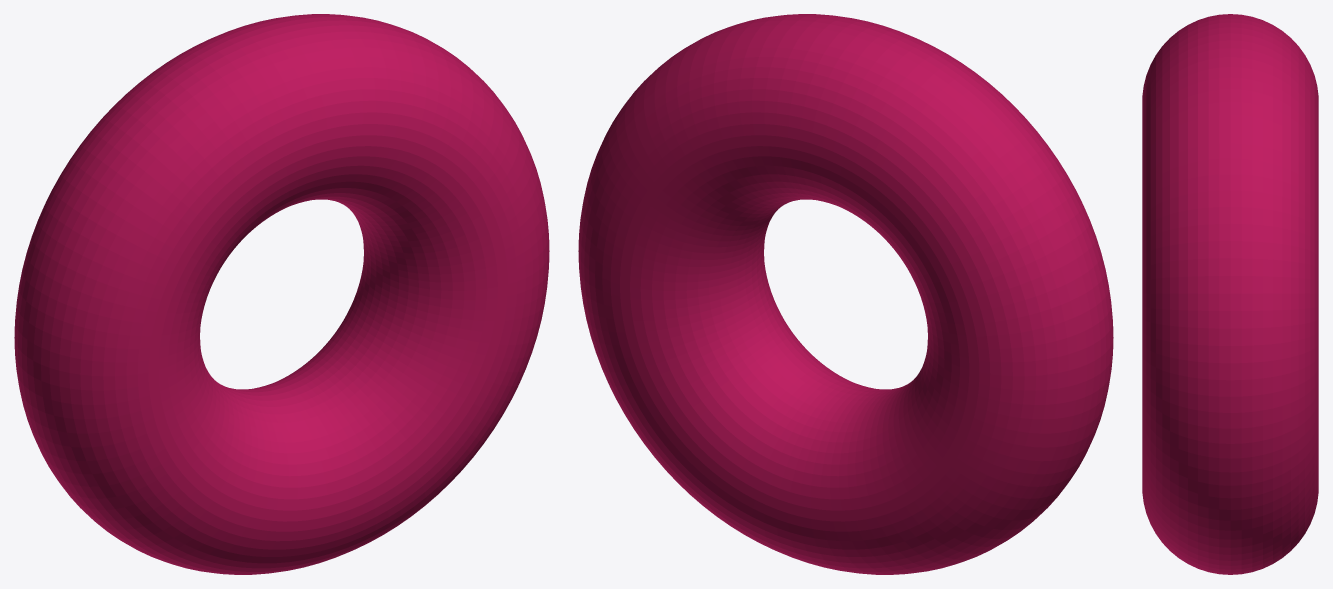
3 renders of one model, left to right at view 1: azimuth 30°, elevation 25°; view 2: azimuth 150°, elevation 25°; view 3: azimuth 270°, elevation 25°, orthographic. The views are drawn at different scales.
Parts seen in each view (by area): view 1: world; view 2: world; view 3: world.
Part boxes in pixels (x1,y1,x2,y2): world: (14, 14, 549, 574); world: (578, 14, 1113, 574); world: (1142, 14, 1318, 574).
Size of the model in its own units: 29.2 by 29.2 by 9.18.
